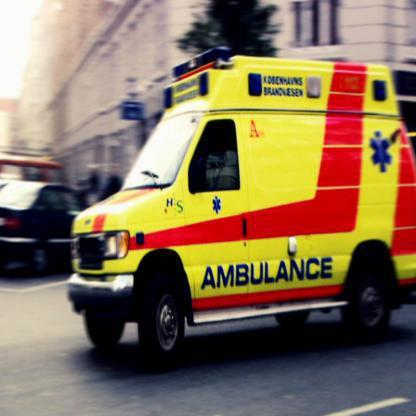Ambulance - v1 Ambulance last generate: (66, 67, 415, 351)
